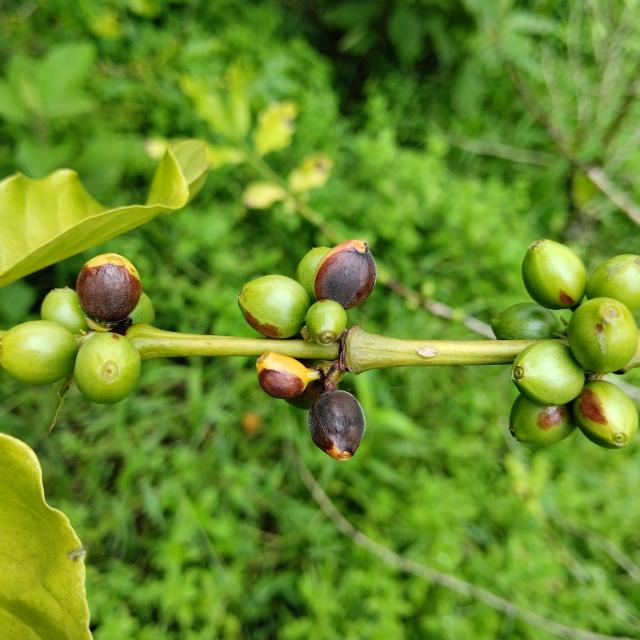green: (569, 298, 639, 374), (0, 320, 78, 385), (512, 341, 586, 407), (74, 332, 140, 404), (238, 275, 311, 339), (523, 239, 588, 309), (574, 381, 640, 449), (510, 394, 578, 445), (587, 254, 640, 312), (492, 302, 560, 340), (40, 287, 90, 334), (296, 246, 331, 304), (305, 300, 347, 346), (129, 292, 155, 325)
red: (76, 253, 141, 323), (313, 240, 377, 309), (308, 391, 365, 461), (256, 352, 322, 399)
